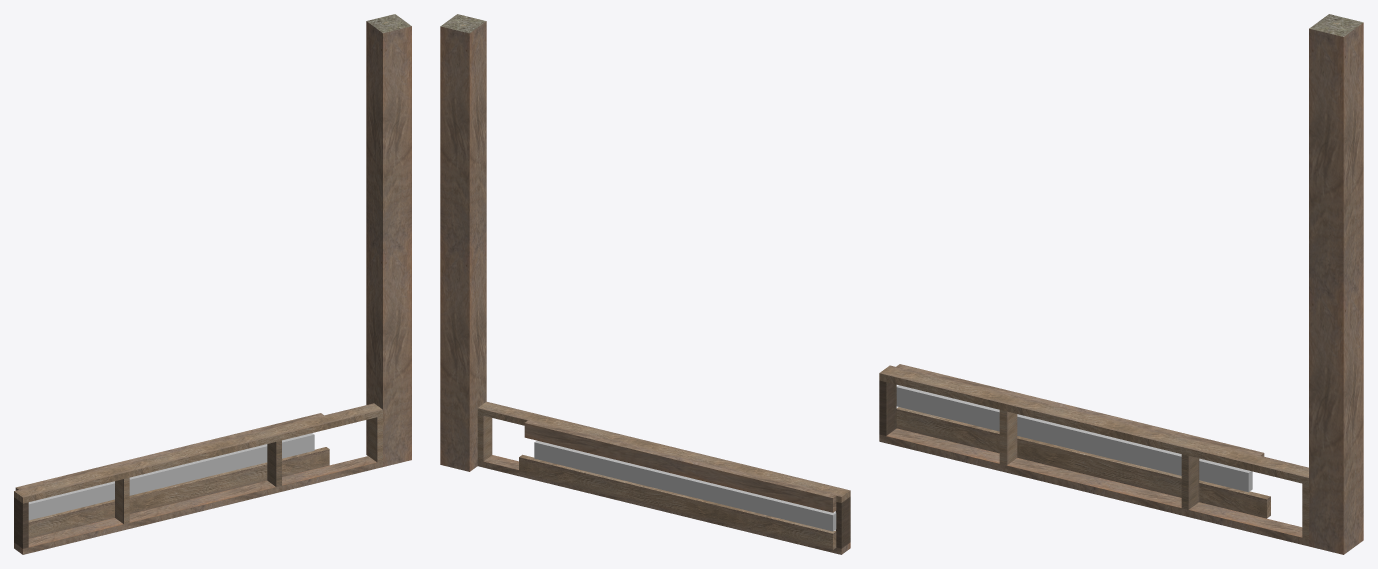
File: WallFloorDividerDestroyD.fbx
The picture shows the model from 3 angles, left to right: view 1: azimuth 30°, elevation 25°; view 2: azimuth 150°, elevation 25°; view 3: azimuth 330°, elevation 25°; orthographic projection. The views are drawn at different scales.
Visible parts, largest first — view 1: WallFloorDividerDestroyD; view 2: WallFloorDividerDestroyD; view 3: WallFloorDividerDestroyD.
Part boxes in pixels (x1=…): WallFloorDividerDestroyD: x1=14, y1=14, x2=411, y2=554; WallFloorDividerDestroyD: x1=440, y1=14, x2=850, y2=554; WallFloorDividerDestroyD: x1=879, y1=14, x2=1363, y2=554.
Size of the model in its own units: 404 by 431 by 30.09.
